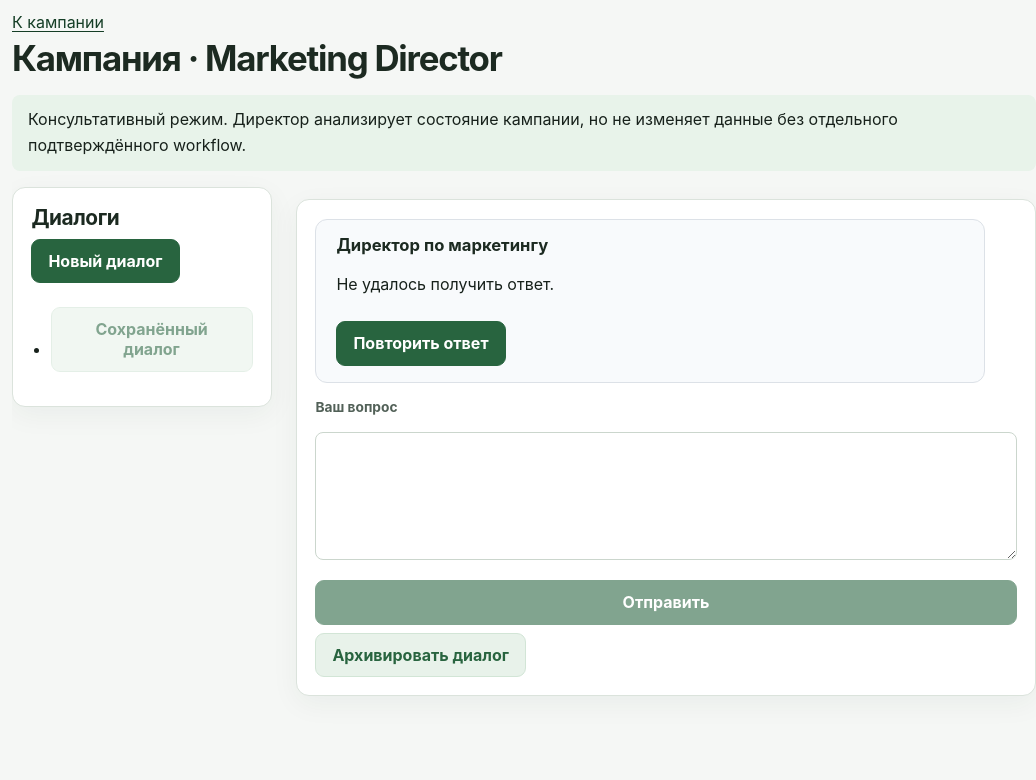
shows safe failure and retries the same message
This screenshot has width=1036, height=780.
Expected: the text "Не удалось получить ответ." is shown, [336,274,554,294]
Click the button "Повторить ответ" at (421, 344), box [336,321,506,366]
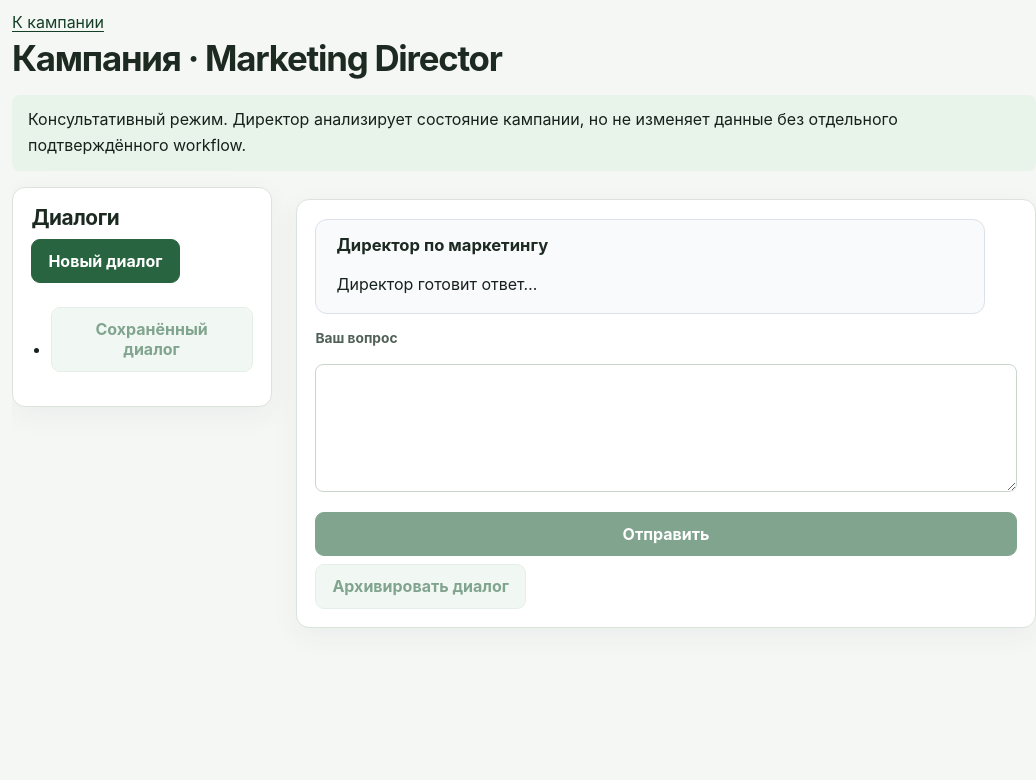
Result: the text "Директор готовит ответ…" is shown at [336,274,537,294]
